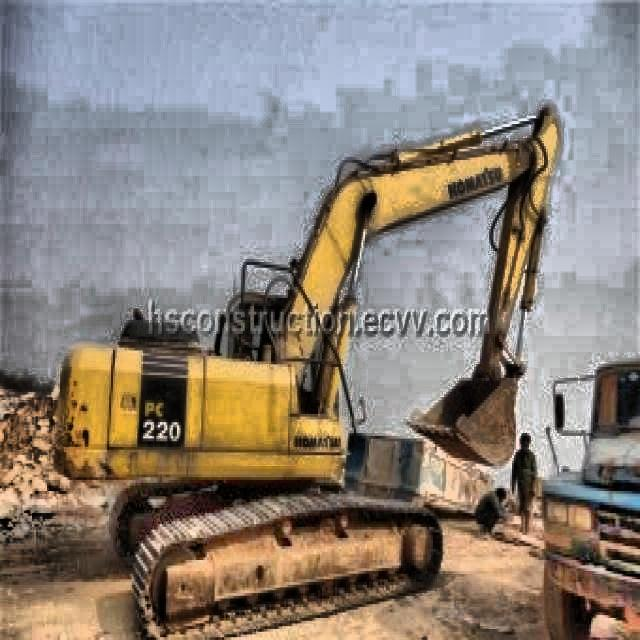bull_dozer/loader/grader: (43, 99, 563, 640)
person: (508, 426, 544, 542)
